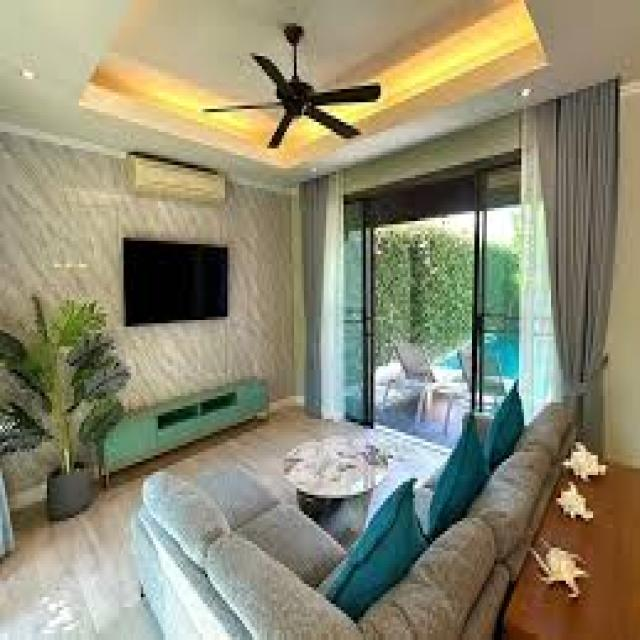Sofa: (137, 399, 565, 640)
Table: (277, 429, 391, 531)
tv: (120, 236, 232, 324)
window: (308, 190, 586, 391)
